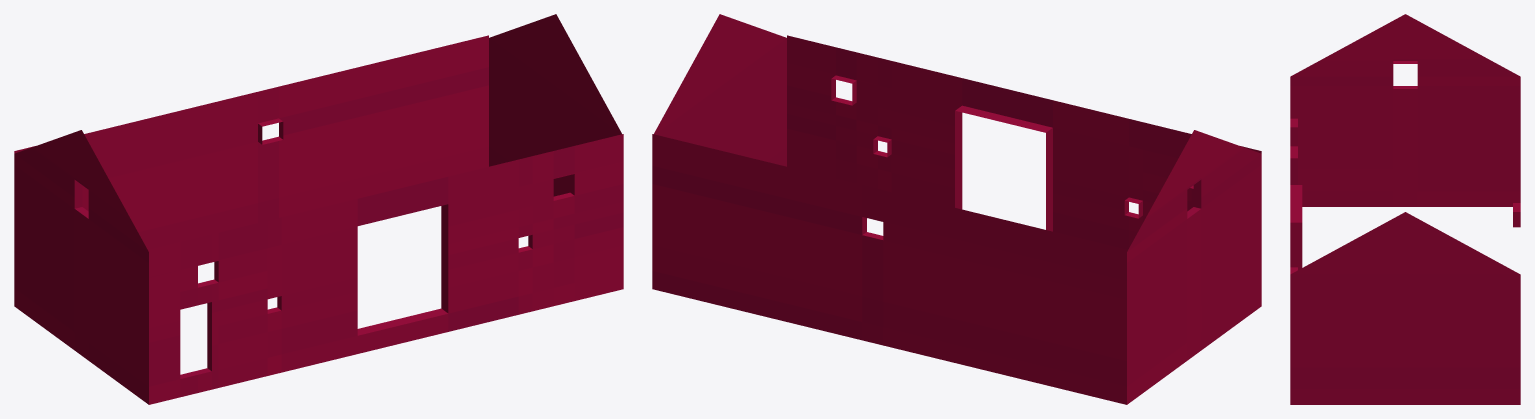
The model's file is SM_Bld_008_Masonry.glb.
The picture shows the model from 3 angles, left to right: view 1: azimuth 30°, elevation 25°; view 2: azimuth 150°, elevation 25°; view 3: azimuth 270°, elevation 25°; orthographic projection. The views are drawn at different scales.
Visible parts, largest first — view 1: SM_Bld_008_Masonry; view 2: SM_Bld_008_Masonry; view 3: SM_Bld_008_Masonry.
Part boxes in pixels (x1=…): SM_Bld_008_Masonry: x1=14, y1=14, x2=623, y2=404; SM_Bld_008_Masonry: x1=652, y1=14, x2=1261, y2=404; SM_Bld_008_Masonry: x1=1290, y1=14, x2=1520, y2=404.
Size of the model in its own units: 13.6 by 6.19 by 6.69.
